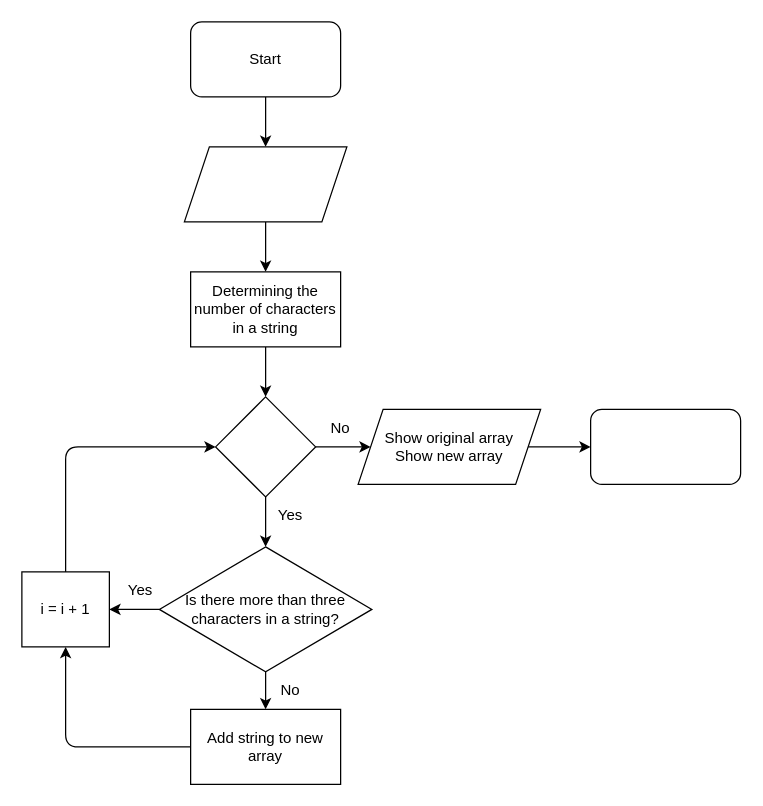
The diagram is 763 pixels wide and 806 high, and some of its shapes have lost their labels. Here are the shapes that lost their labels. From the top down, the box of each, then its label:
(183, 146, 347, 222): Input size array Input string array i = 0
(214, 396, 316, 497): i < size?
(589, 408, 741, 484): End
